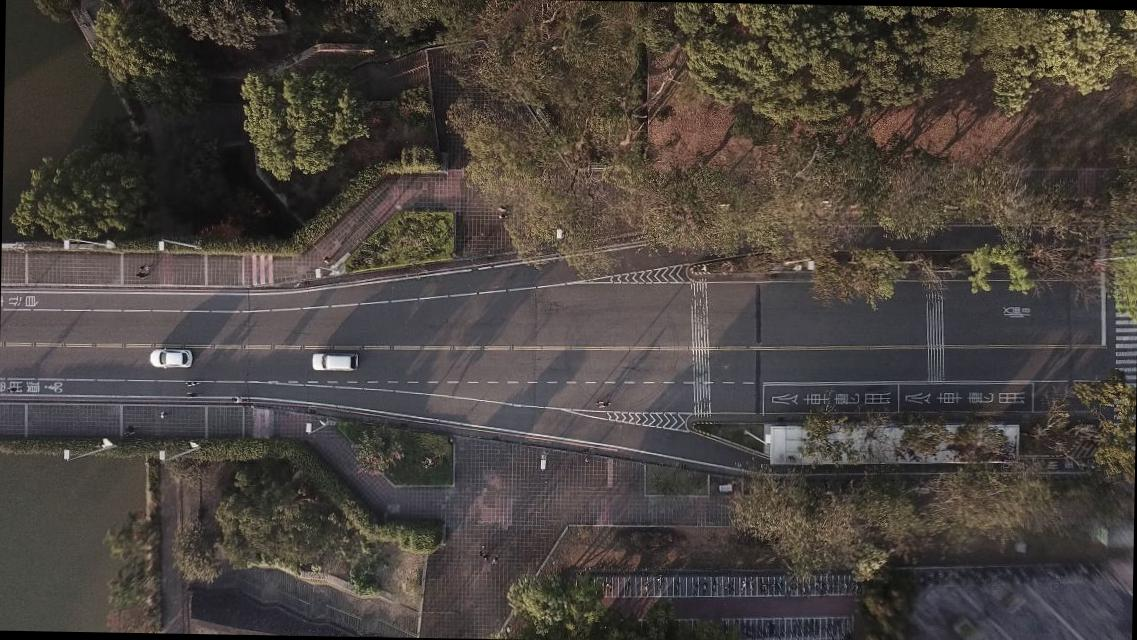vehicle: (311, 352, 358, 372), (150, 346, 192, 368)
